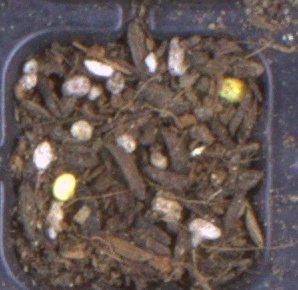chilli seed: (219, 77, 251, 104), (52, 173, 77, 202)
